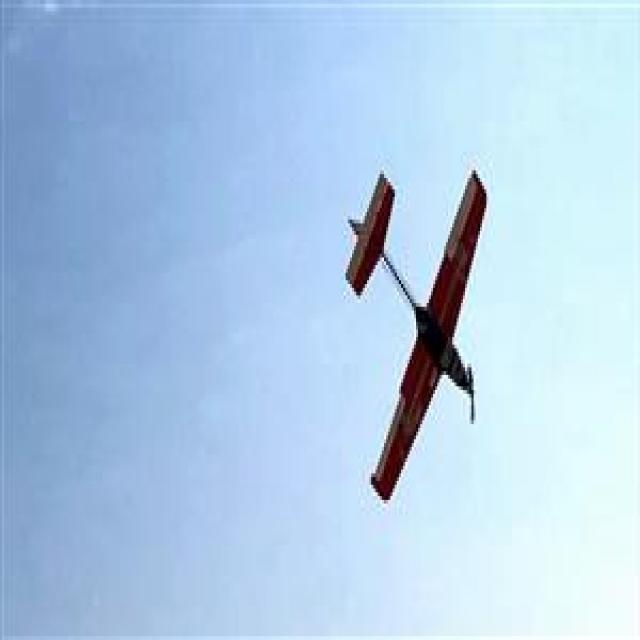iha: (334, 160, 519, 521)
